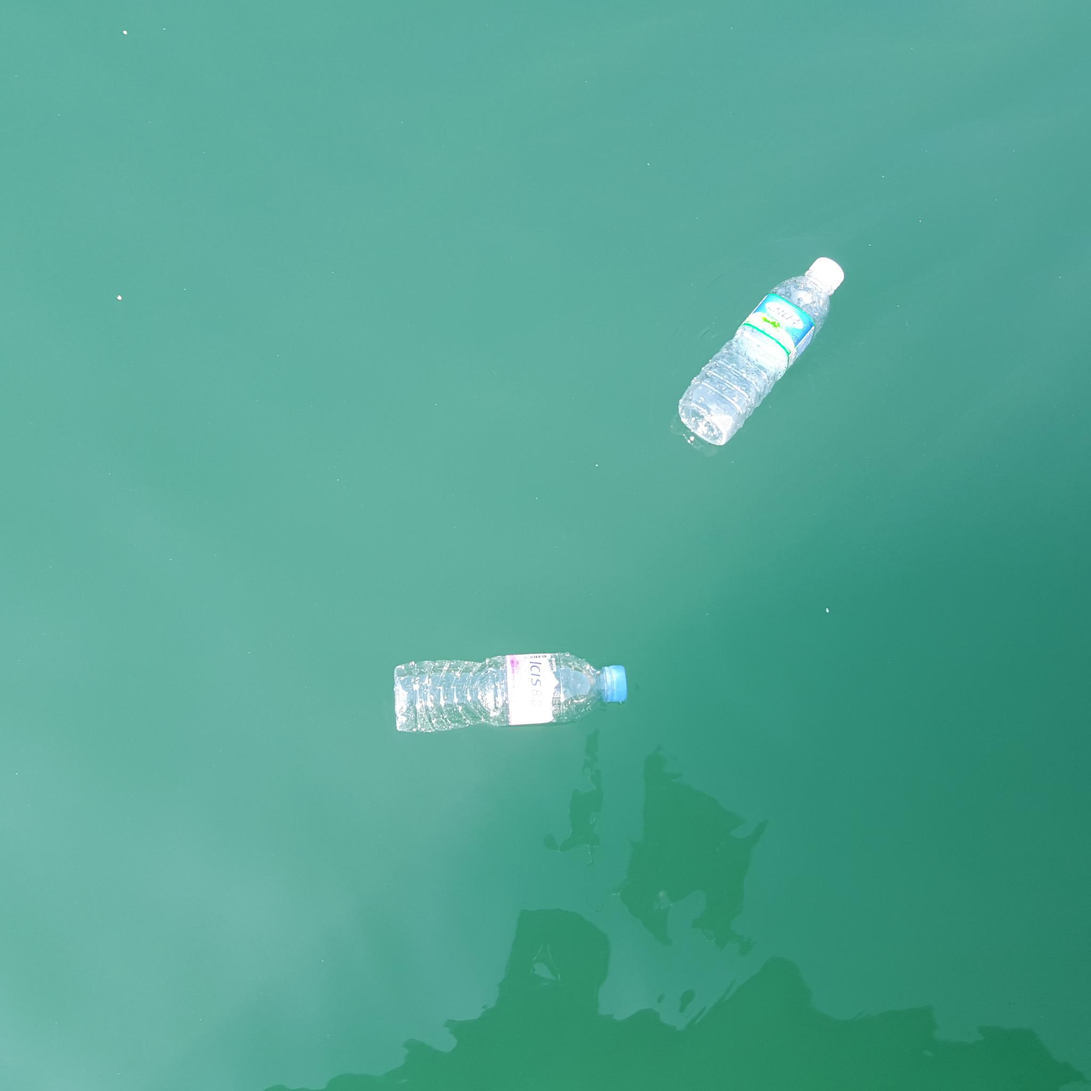sampah_terapung: (679, 257, 846, 447), (395, 653, 627, 733)
